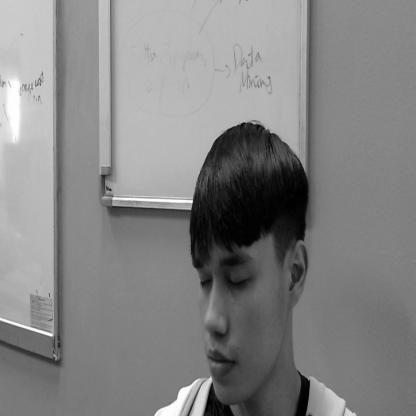Closed-Eyes: (186, 252, 256, 301)
